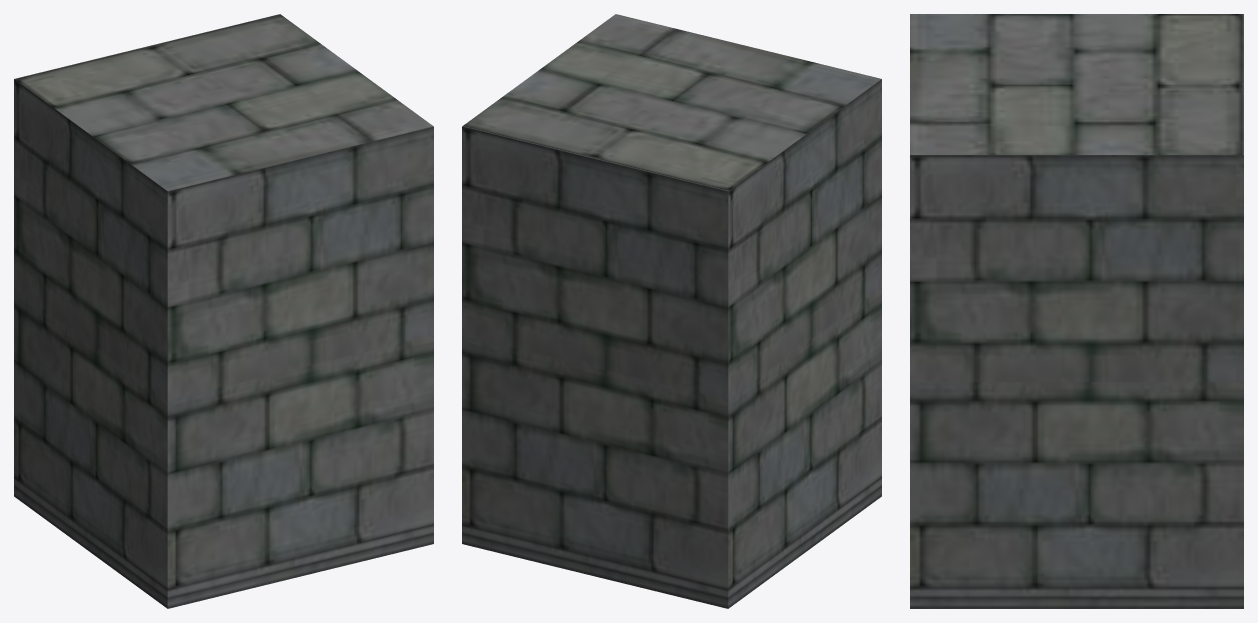
The model's file is sd_block_small_01.glb.
3 renders of one model, left to right at view 1: azimuth 30°, elevation 25°; view 2: azimuth 150°, elevation 25°; view 3: azimuth 270°, elevation 25°, orthographic. The views are drawn at different scales.
Visible parts, largest first — view 1: block_small_01; view 2: block_small_01; view 3: block_small_01.
Part boxes in pixels (bbox=[...]): block_small_01: bbox=[14, 14, 433, 608]; block_small_01: bbox=[462, 14, 881, 608]; block_small_01: bbox=[910, 14, 1243, 608].
Size of the model in its own units: 2 by 3 by 2.
1 material, 1 textured.
